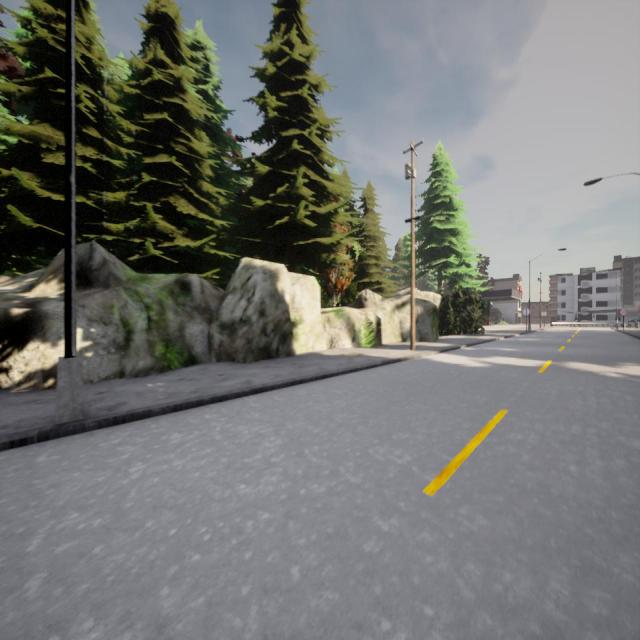Traffic_Signs: (540, 309, 548, 319), (620, 308, 628, 316), (522, 308, 530, 316)
Vehicle: (627, 317, 640, 324)
